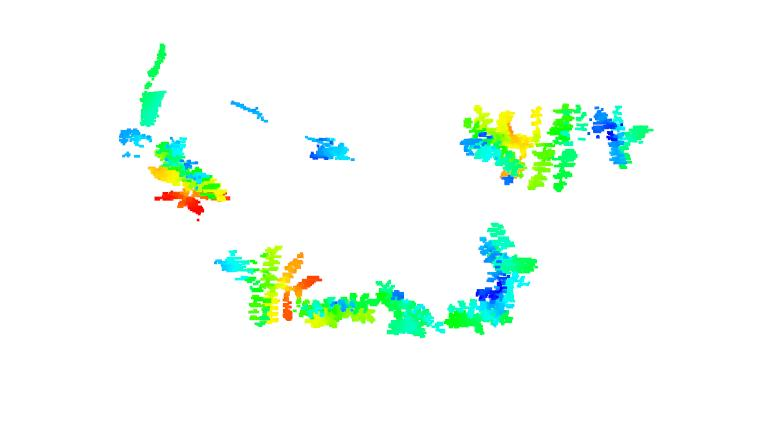chickpea: (451, 220, 540, 335), (213, 235, 318, 330), (142, 130, 229, 220), (517, 99, 591, 193), (459, 101, 527, 186), (378, 275, 448, 347), (301, 283, 381, 337), (594, 97, 653, 170)
